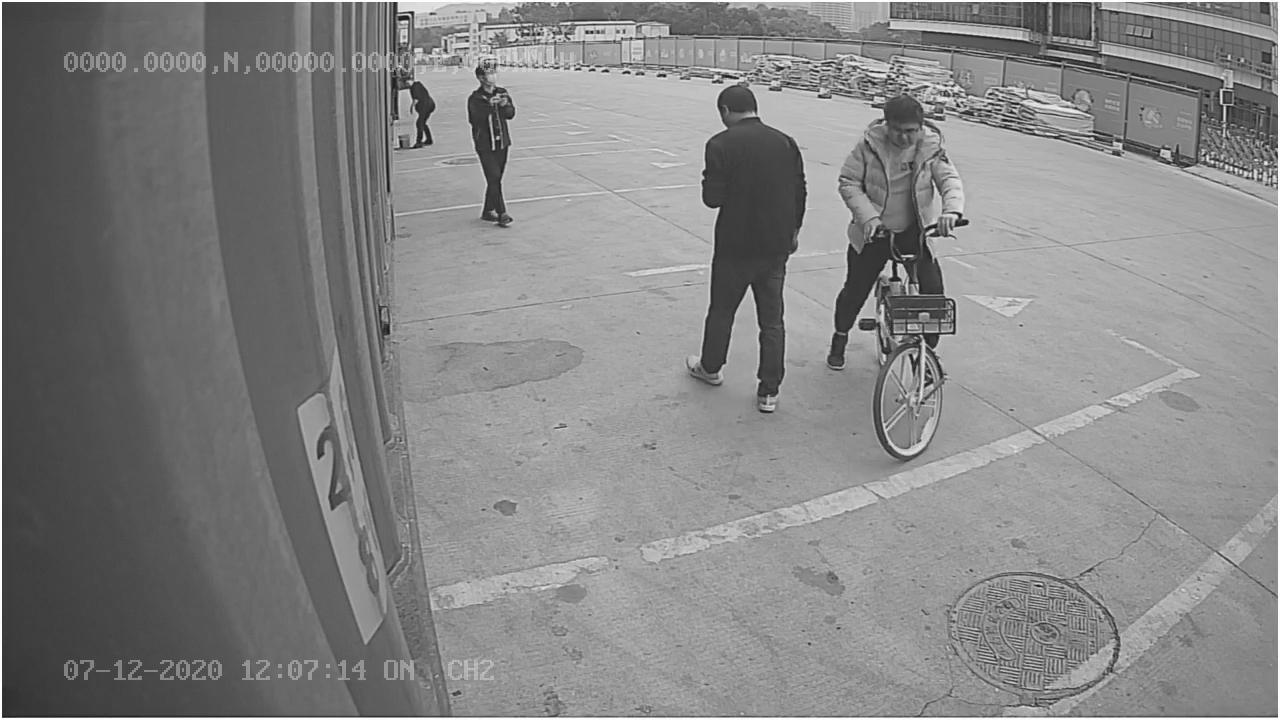person: (680, 82, 806, 412)
